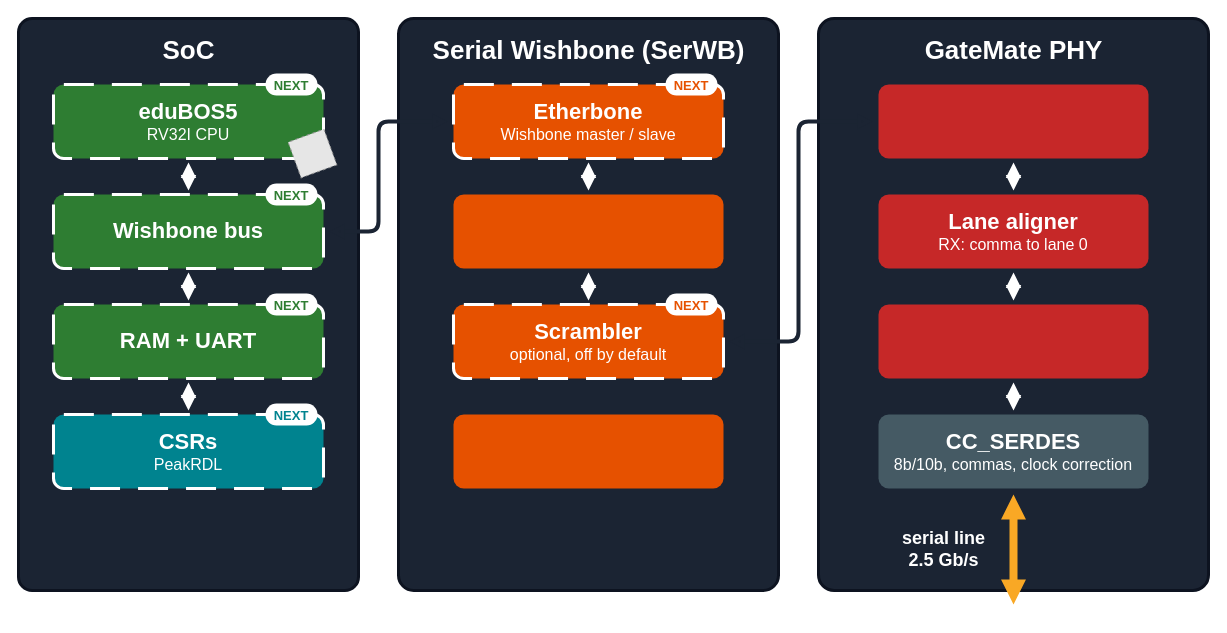
The diagram is 1227 pixels wide and 633 high, and some of its shapes have lost their labels. Grey dashed boxes stand in for pictures. Each missing label, with the centre of its shape:
"FIFO pump CPU to CPU, SerWB port 2" belongs at point (588, 451).
"I/O flops on every CC_SERDES port" belongs at point (1013, 341).
"Packetizer Depacketizer" belongs at point (588, 231).
"PRBS7/15/31 link test, gen + checker" belongs at point (1013, 121).
